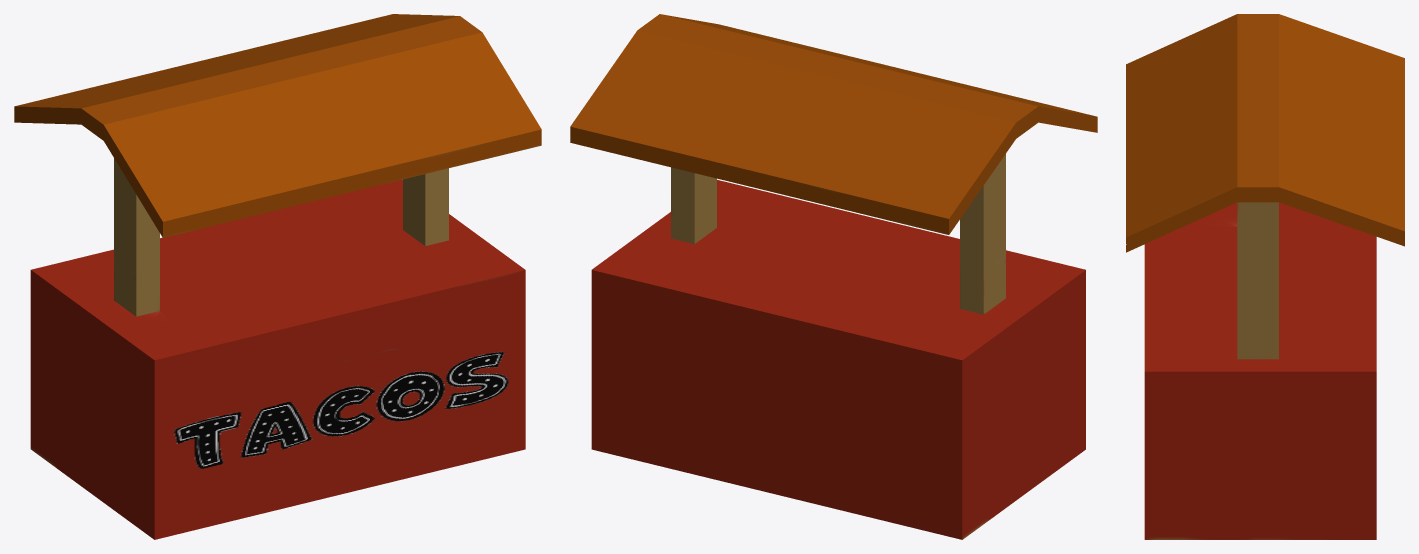
Rendered from Puesto_prefab.fbx.
The picture shows the model from 3 angles, left to right: view 1: azimuth 30°, elevation 25°; view 2: azimuth 150°, elevation 25°; view 3: azimuth 270°, elevation 25°; orthographic projection. The views are drawn at different scales.
Visible parts, largest first — view 1: Cube; view 2: Cube; view 3: Cube.
Boxes of the visible parts, bbox=[...] form: Cube: bbox=[14, 14, 541, 539]; Cube: bbox=[570, 14, 1097, 539]; Cube: bbox=[1126, 14, 1404, 539].
Bounding box in the file's own units: 481 × 460 × 327.
Materials: 1 (1 with a texture image).
